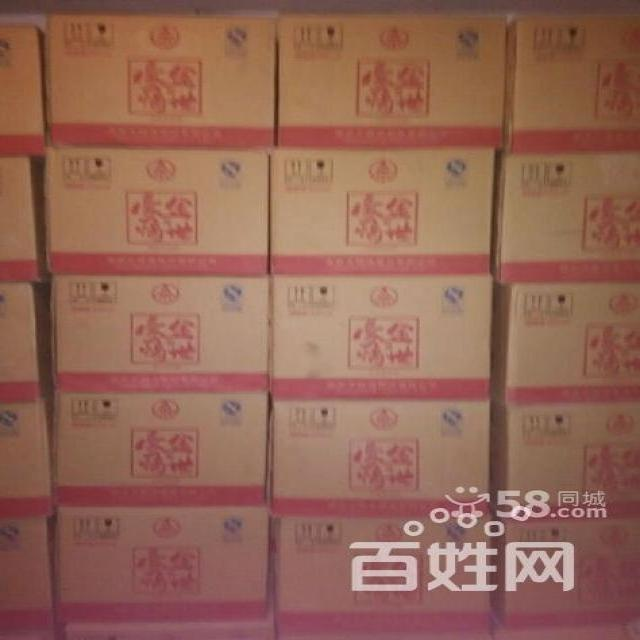box: (278, 14, 506, 149), (49, 15, 275, 151), (270, 147, 497, 279), (46, 146, 270, 277), (270, 279, 493, 403), (266, 401, 490, 520), (267, 516, 490, 635), (49, 274, 270, 394), (46, 393, 270, 508), (55, 509, 266, 625), (493, 153, 640, 285), (502, 15, 640, 155), (490, 284, 640, 405), (489, 402, 640, 522), (490, 519, 640, 630), (0, 282, 54, 404), (0, 155, 49, 282), (0, 519, 55, 631), (0, 24, 46, 157), (0, 402, 50, 518), (57, 619, 282, 640), (493, 622, 640, 640)
